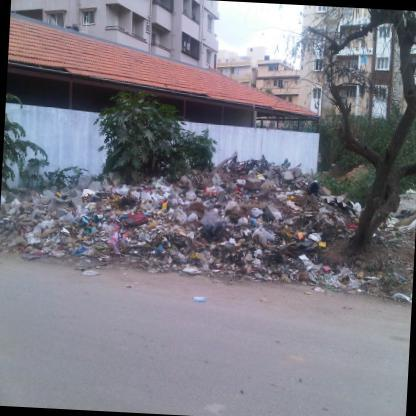Garbage: (114, 181, 206, 246), (235, 244, 292, 284), (304, 261, 356, 297), (30, 232, 79, 266), (144, 223, 170, 275), (68, 237, 102, 275), (105, 206, 126, 262), (290, 221, 324, 249), (78, 218, 122, 236), (132, 184, 156, 203), (188, 291, 210, 308)
